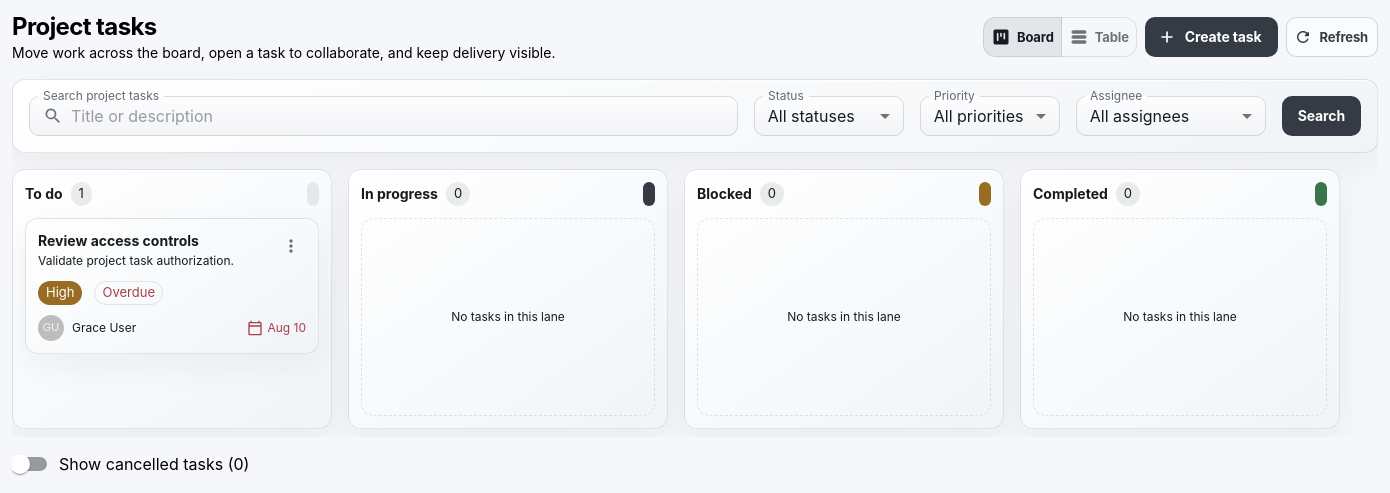
Scenario: ProjectTasksSection › switches back to the paginated table when requested
expect the text "Review access controls" is shown: met, box [38,232,199,249]
Click the button with aria-label "table view": (1099, 37) [1061,17,1137,57]
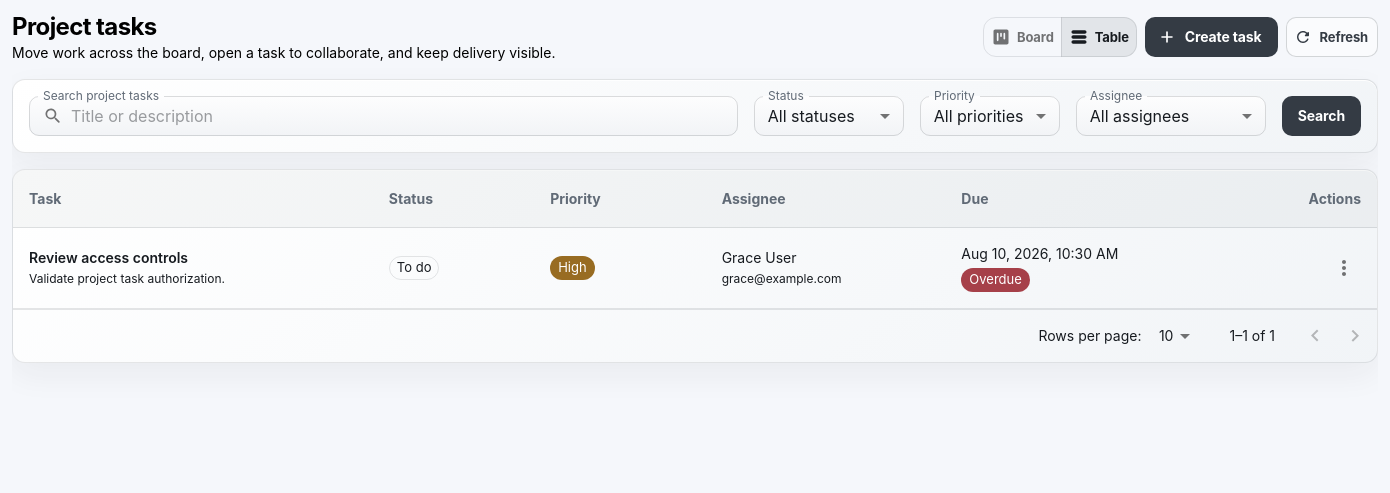
expect the text "Review access controls" is shown: met, box [29,249,188,266]
expect the table named "project tasks" is shown: met, box [13,170,1377,309]
